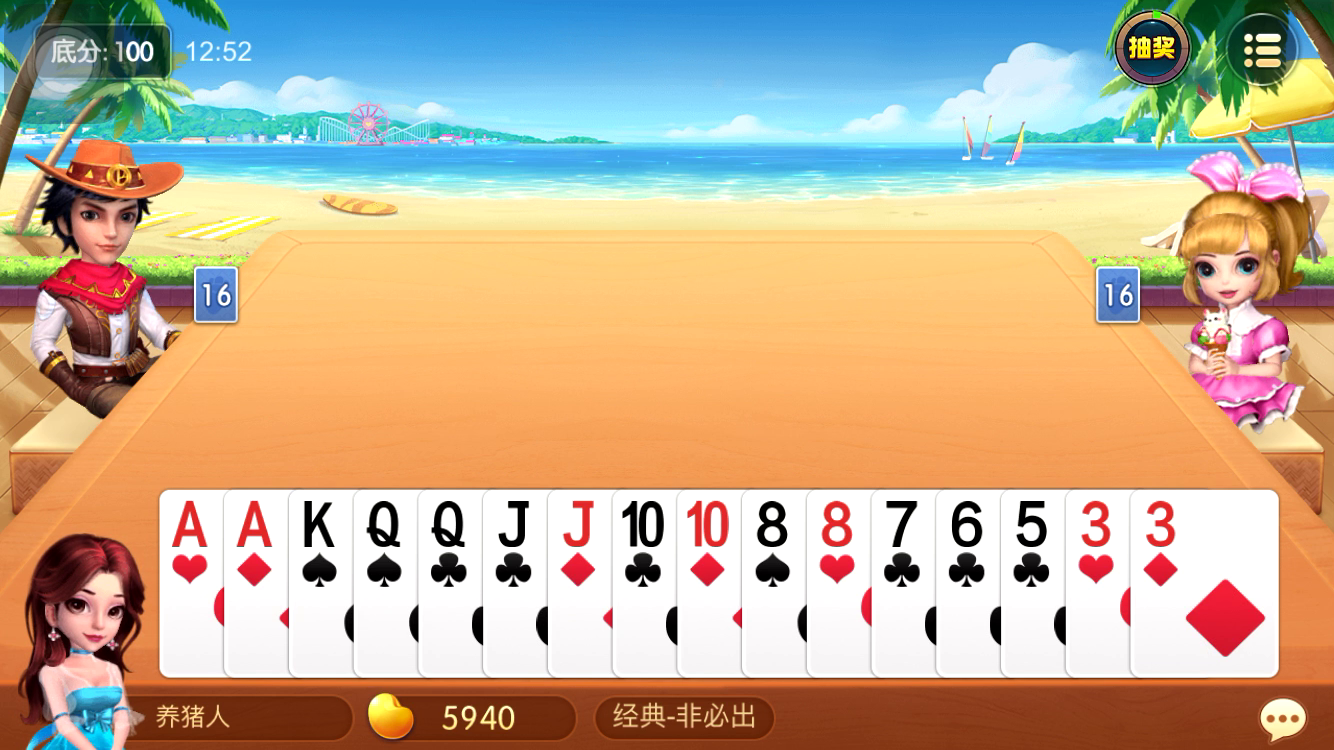A: (227, 497, 282, 555), (163, 494, 216, 552)
J: (553, 494, 604, 555), (489, 496, 537, 557)
K: (293, 496, 344, 557)
Q: (358, 496, 410, 557), (425, 497, 472, 557)
eight: (747, 497, 800, 556), (814, 500, 862, 554)
five: (1009, 496, 1056, 556)
seven: (876, 495, 927, 557)
six: (944, 496, 993, 557)
ten: (616, 495, 670, 557), (681, 500, 739, 555)
three: (1136, 496, 1186, 554), (1071, 496, 1121, 552)
